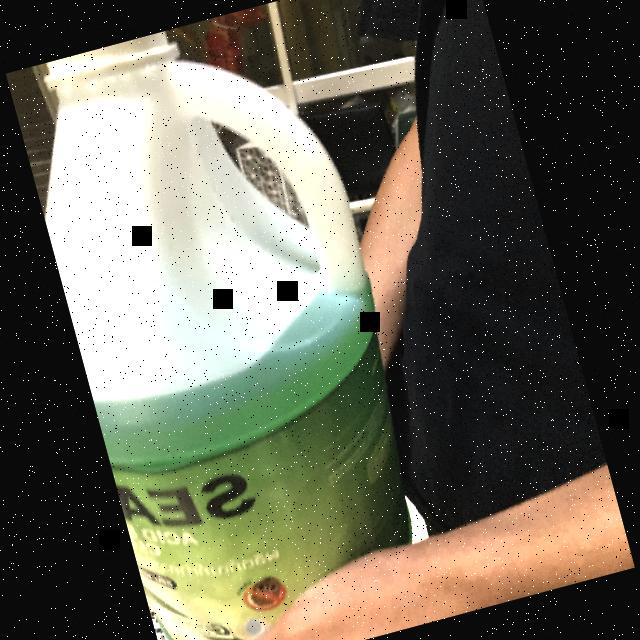chemical_plastic_gallon: (5, 0, 457, 640)
